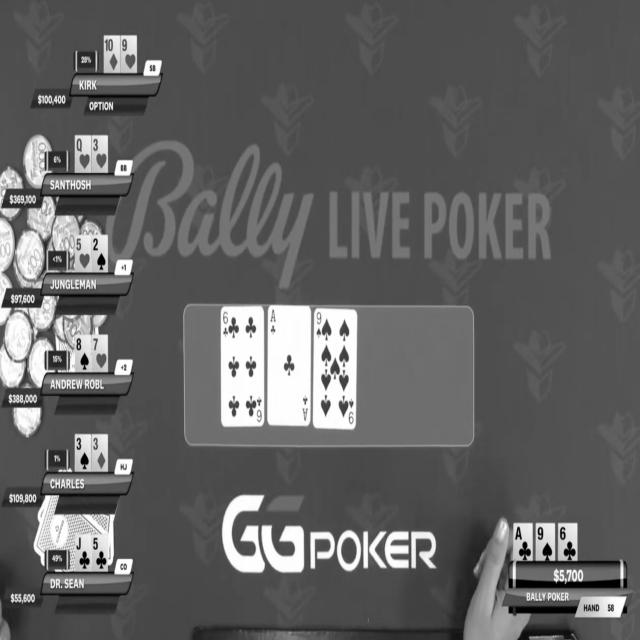10D: (104, 36, 120, 70)
2S: (92, 233, 108, 271)
3D: (91, 434, 108, 471)
3H: (92, 136, 108, 172)
3S: (74, 432, 91, 472)
5C: (91, 533, 107, 570)
5H: (74, 234, 92, 272)
6C: (559, 524, 578, 564)
7H: (93, 336, 109, 372)
8S: (74, 334, 92, 371)
9H: (121, 36, 137, 72)
9S: (535, 522, 555, 560)
AC: (513, 524, 533, 562)
JC: (73, 534, 91, 570)
QH: (75, 134, 92, 170)
